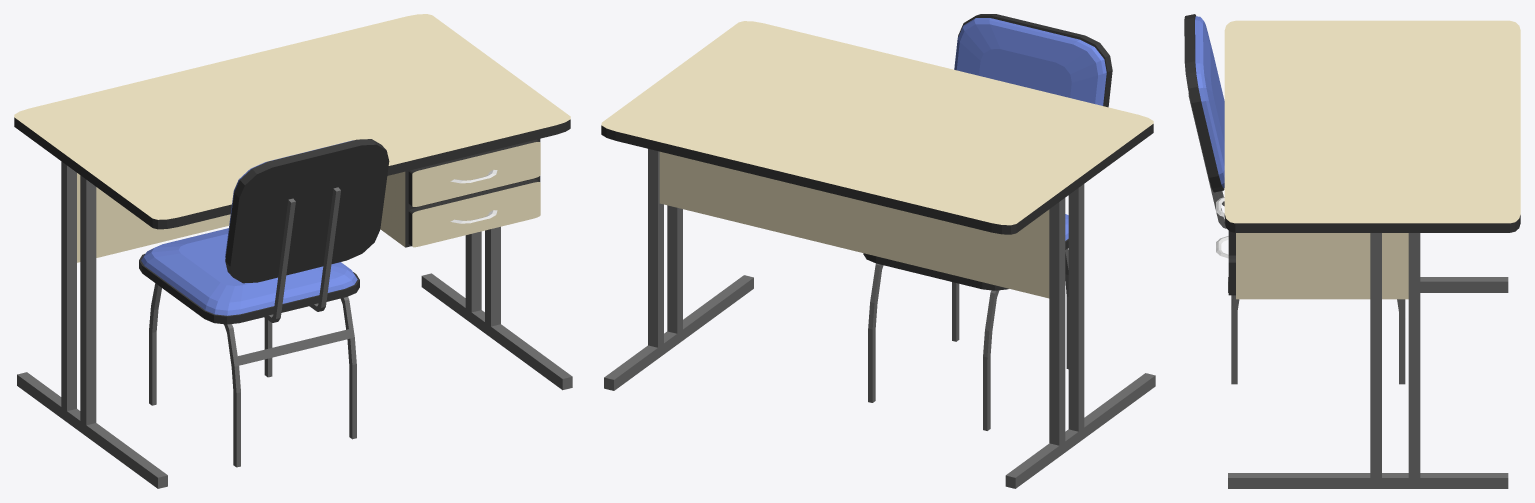
The model's file is MesaProfessor.fbx.
3 renders of one model, left to right at view 1: azimuth 30°, elevation 25°; view 2: azimuth 150°, elevation 25°; view 3: azimuth 270°, elevation 25°, orthographic.
Parts seen in each view (by area): view 1: Cube, Cube.001; view 2: Cube, Cube.001; view 3: Cube, Cube.001.
Boxes of the visible parts, bbox=[...] form: Cube: bbox=[14, 14, 572, 488]; Cube.001: bbox=[139, 139, 389, 467]; Cube: bbox=[601, 21, 1155, 488]; Cube.001: bbox=[863, 14, 1112, 430]; Cube: bbox=[1216, 20, 1520, 488]; Cube.001: bbox=[1184, 14, 1405, 384].
Size of the model in its own units: 294 by 213 by 206.
